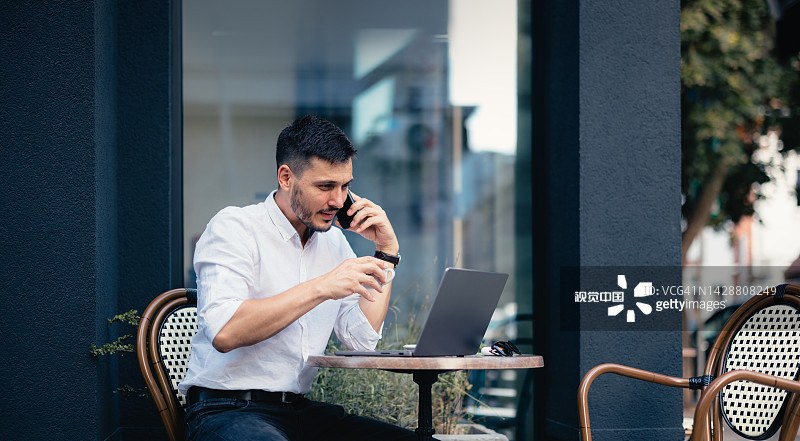calling: (331, 182, 418, 252)
no-phone: (312, 251, 397, 312)
